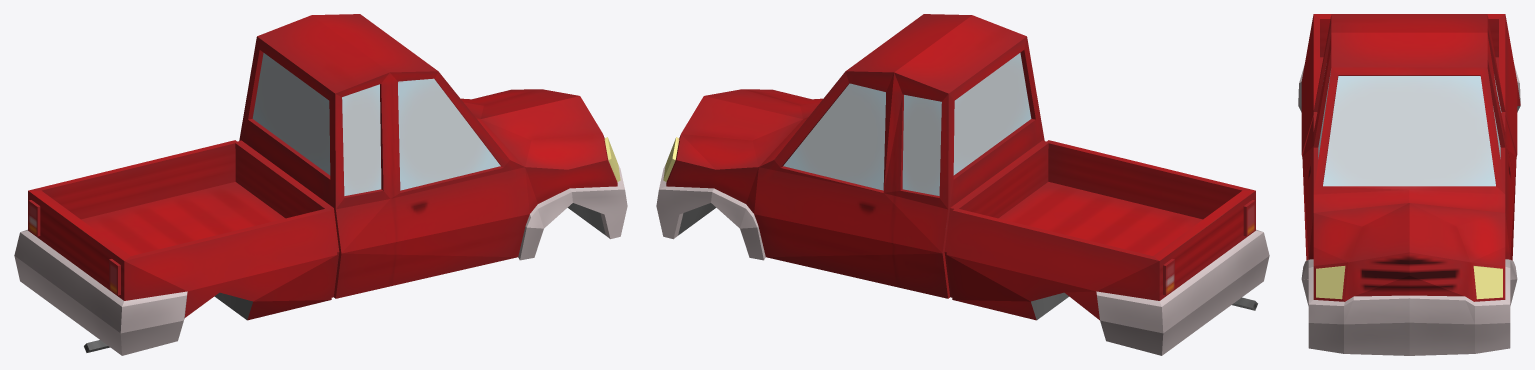
File: co_Pickup01.fbx
3 views of the same model, side by side, from view 1: azimuth 30°, elevation 25°; view 2: azimuth 150°, elevation 25°; view 3: azimuth 270°, elevation 25° (orthographic).
Parts seen in each view (by area): view 1: Pickup01; view 2: Pickup01; view 3: Pickup01.
Part boxes in pixels (x1,y1,x2,y2): Pickup01: (14, 14, 627, 355); Pickup01: (656, 14, 1269, 355); Pickup01: (1298, 14, 1520, 355).
Bounding box in the file's own units: 732 × 283 × 264.
